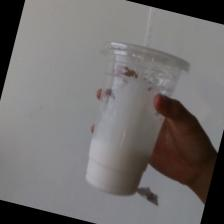Plastik: (85, 41, 189, 205)
